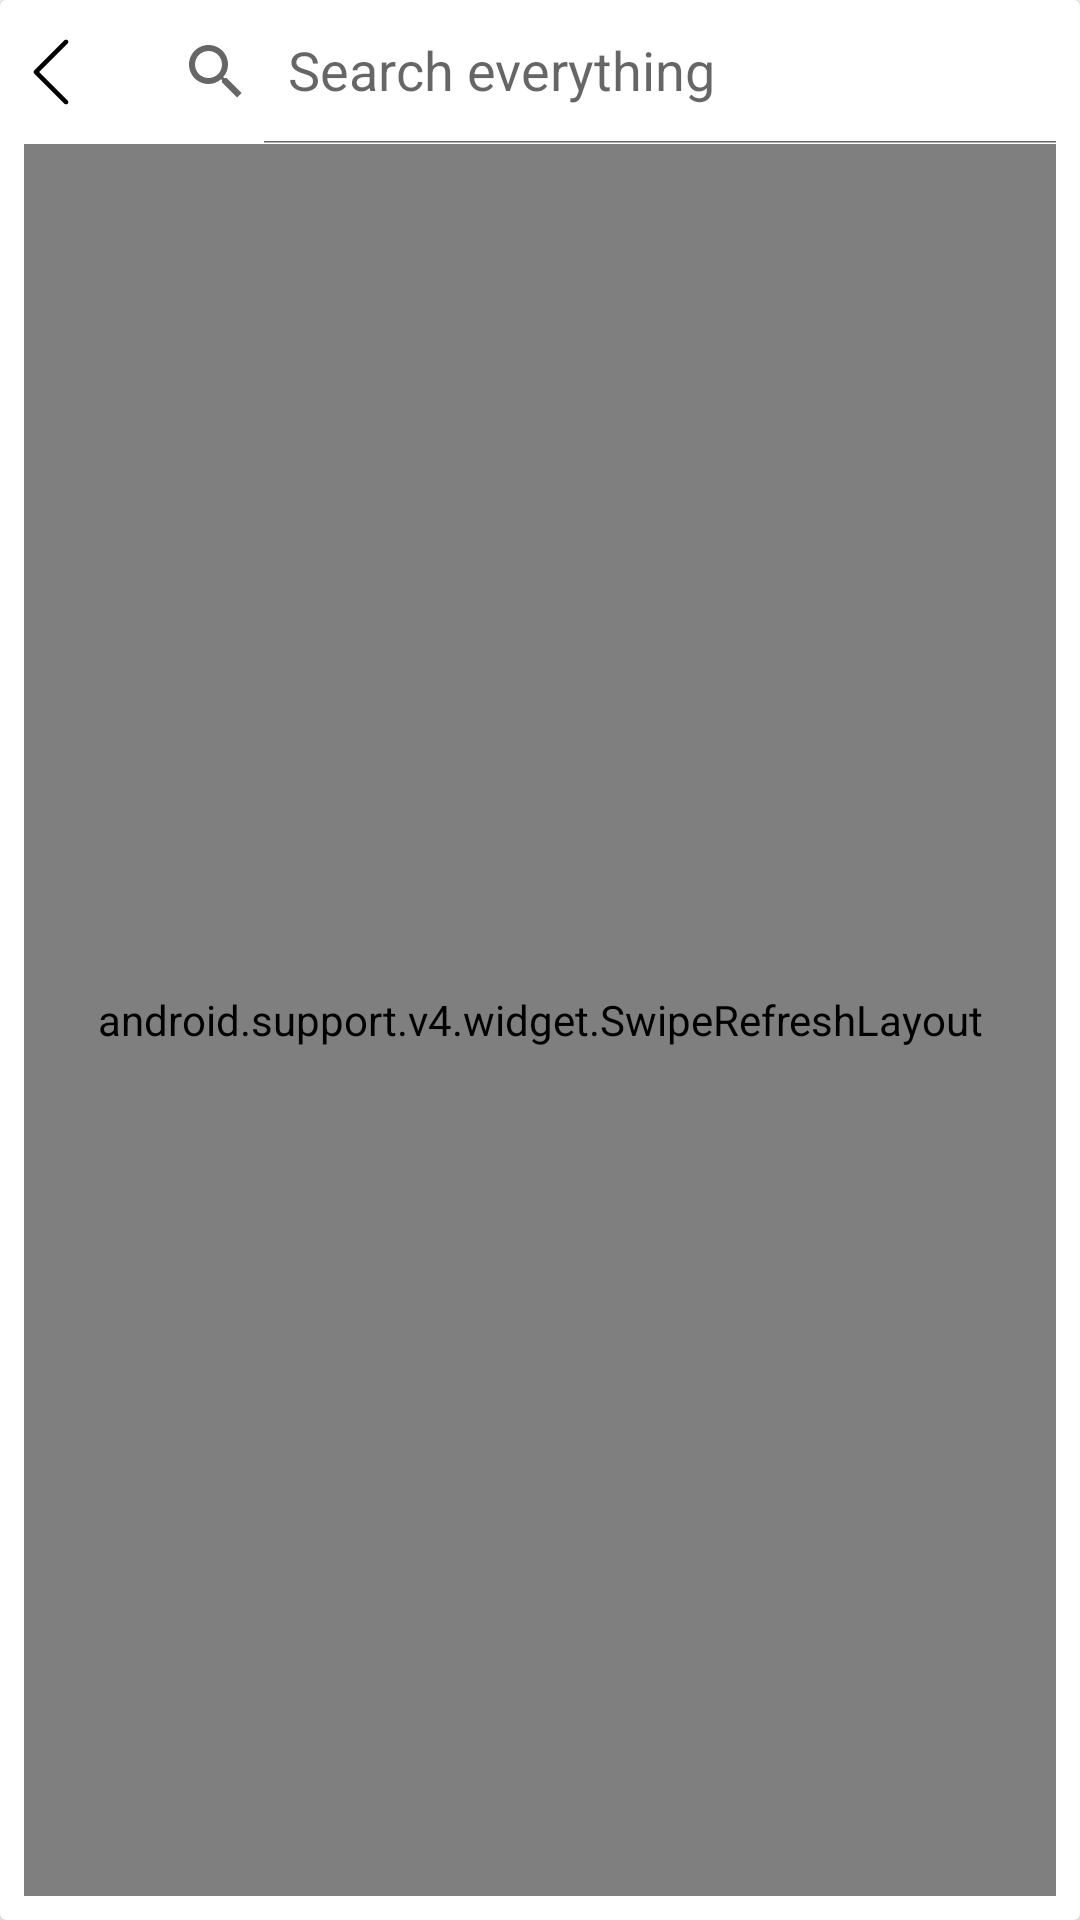

Where to tap for icons on this 1080w x 1920h app screen, as (x=x, y=y):
back: (x=51, y=72)
